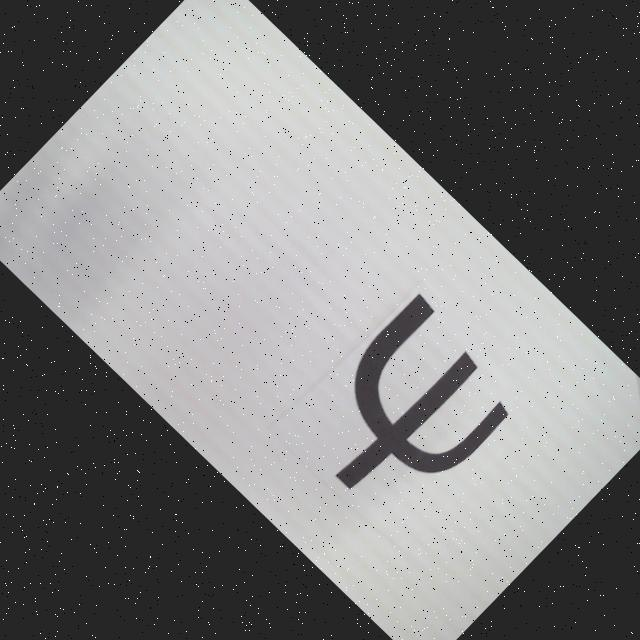PSI: (286, 294, 527, 536)
